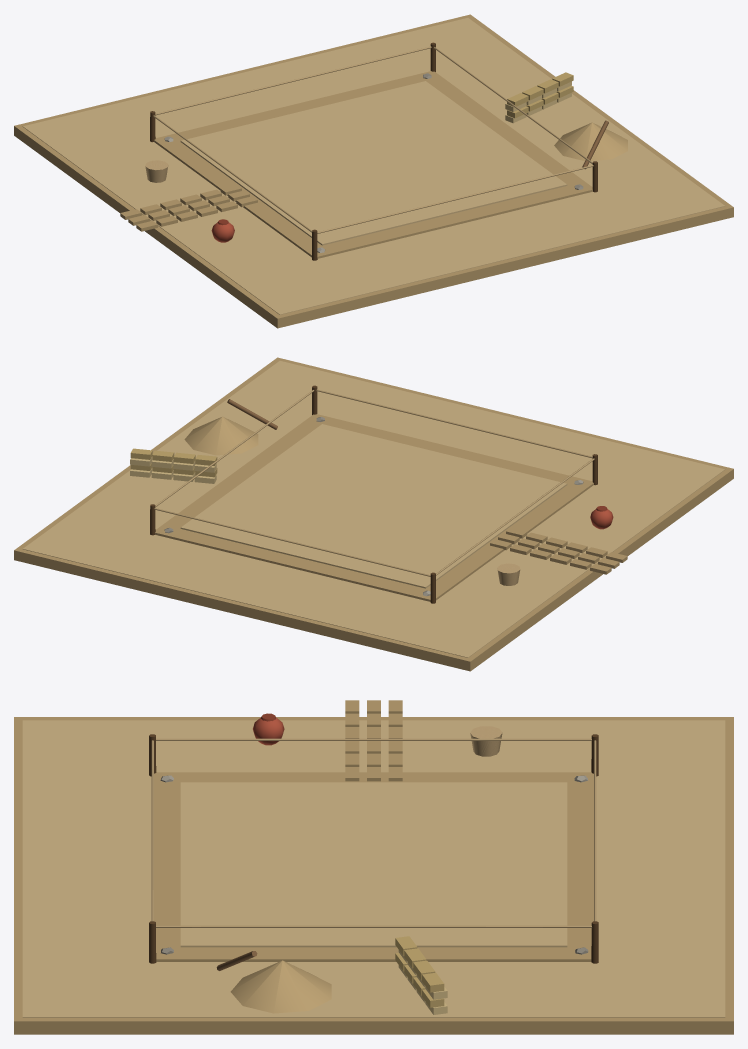
The model's file is exp-1-site.glb.
3 renders of one model, top to bottom at view 1: azimuth 30°, elevation 25°; view 2: azimuth 150°, elevation 25°; view 3: azimuth 270°, elevation 25°, orthographic. The views are drawn at different scales.
Size of the model in its own units: 21.17 by 1.81 by 20.5.
Materials: 12 (1 with a texture image).
